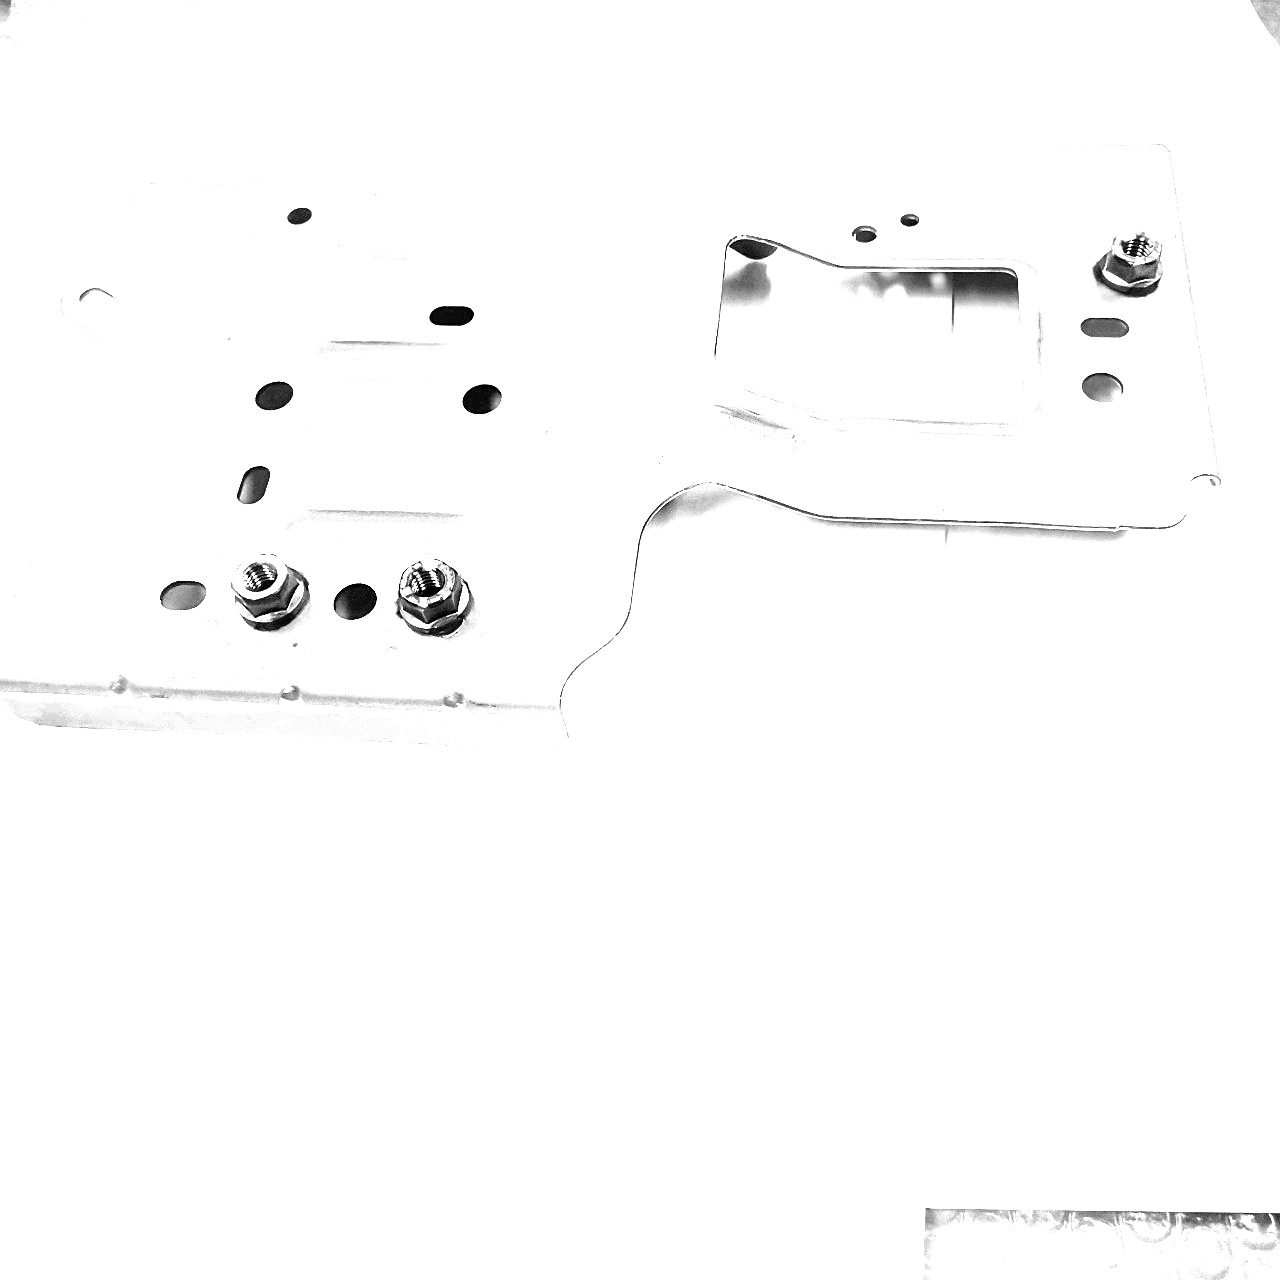dog: (392, 550, 478, 642), (226, 546, 309, 634), (1090, 229, 1170, 300)
